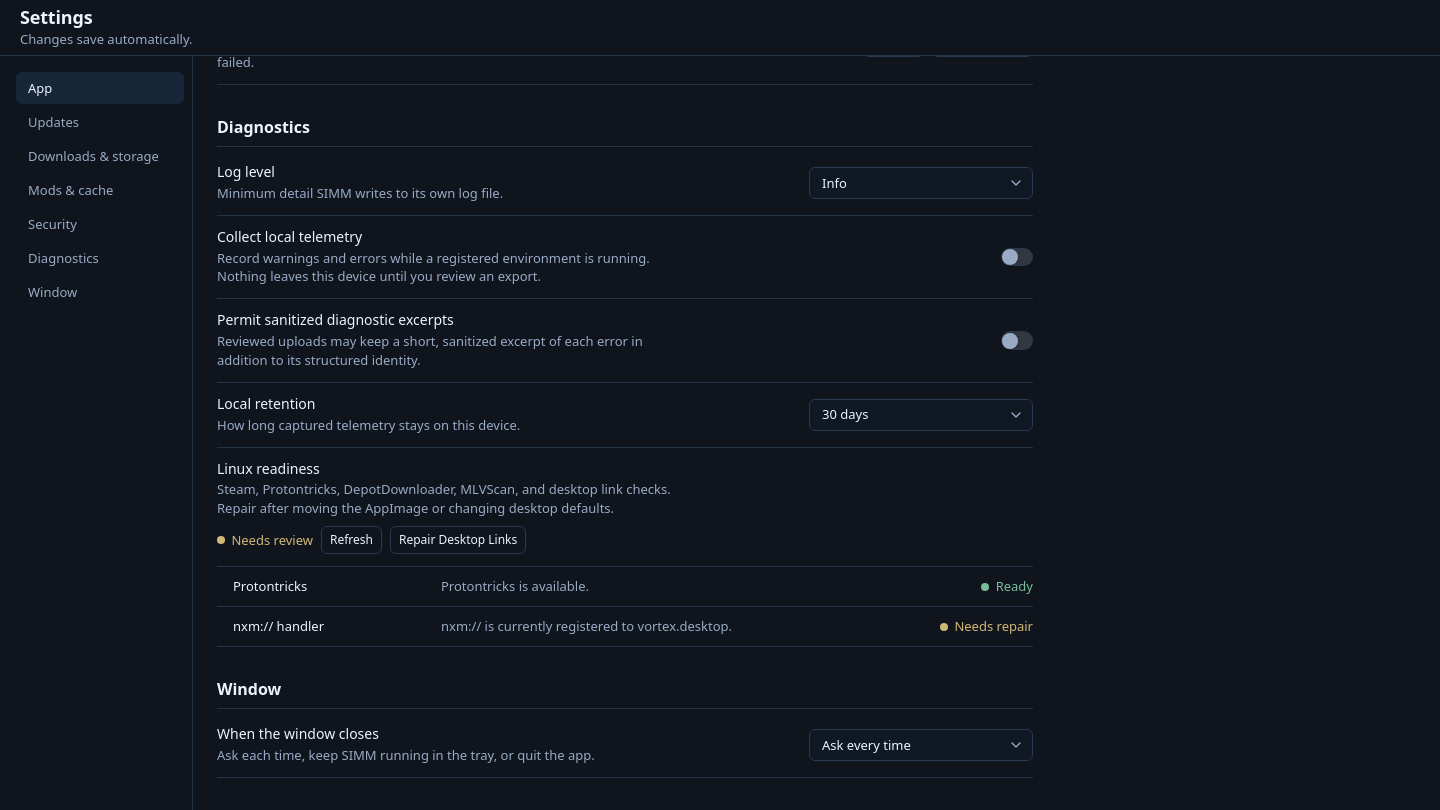
Test: Settings › shows Linux readiness status and repairs desktop links
(page scrolled)
expect the text "Linux readiness" is shown: met, box [217,459,320,478]
expect the text "Protontricks" is shown: met, box [233,577,307,595]
Click the button "Repair Desktop Links". click: point(458, 540)
box: [390,526,526,554]
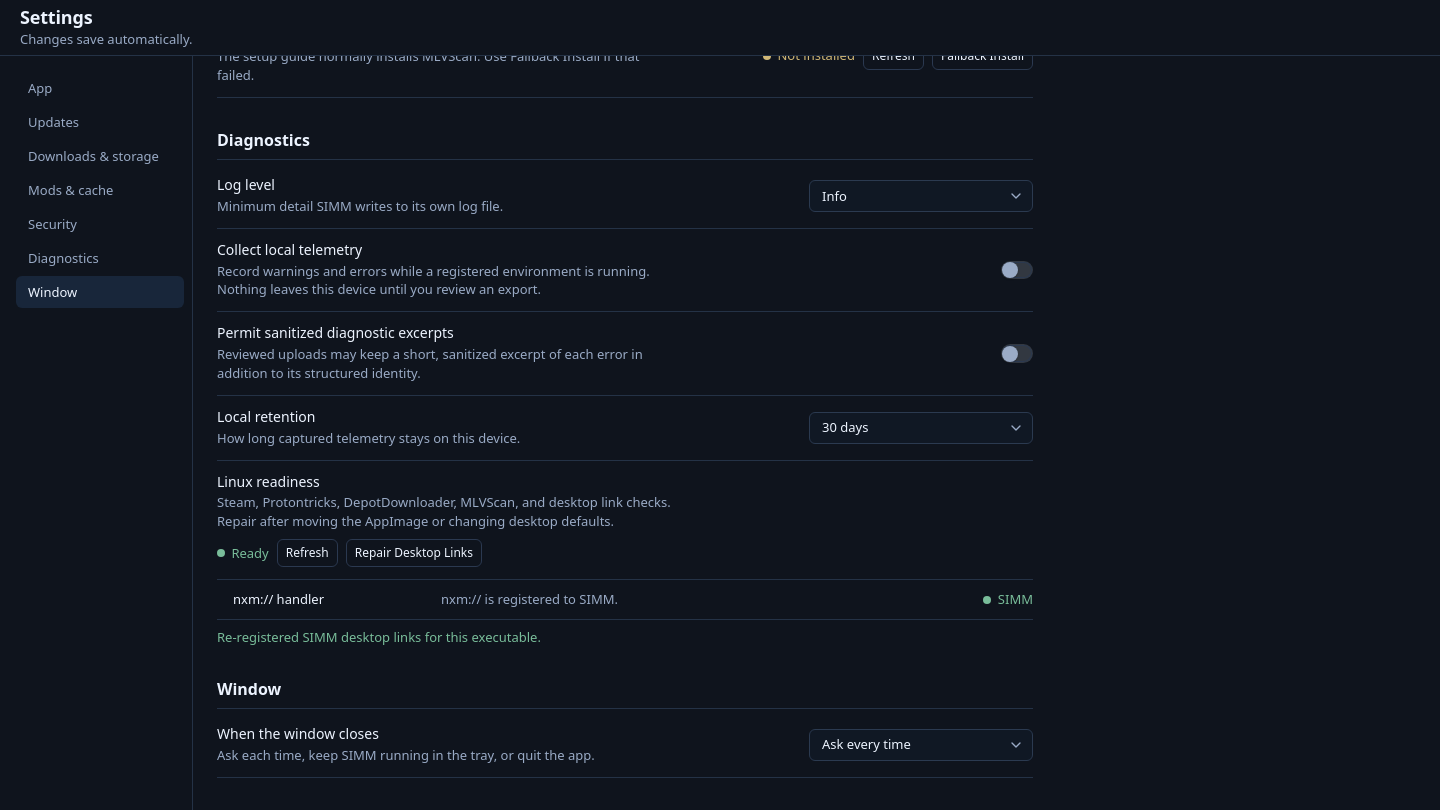
expect the text "Re-registered SIMM desktop links for this executable." is shown: met, box [217,628,541,646]
